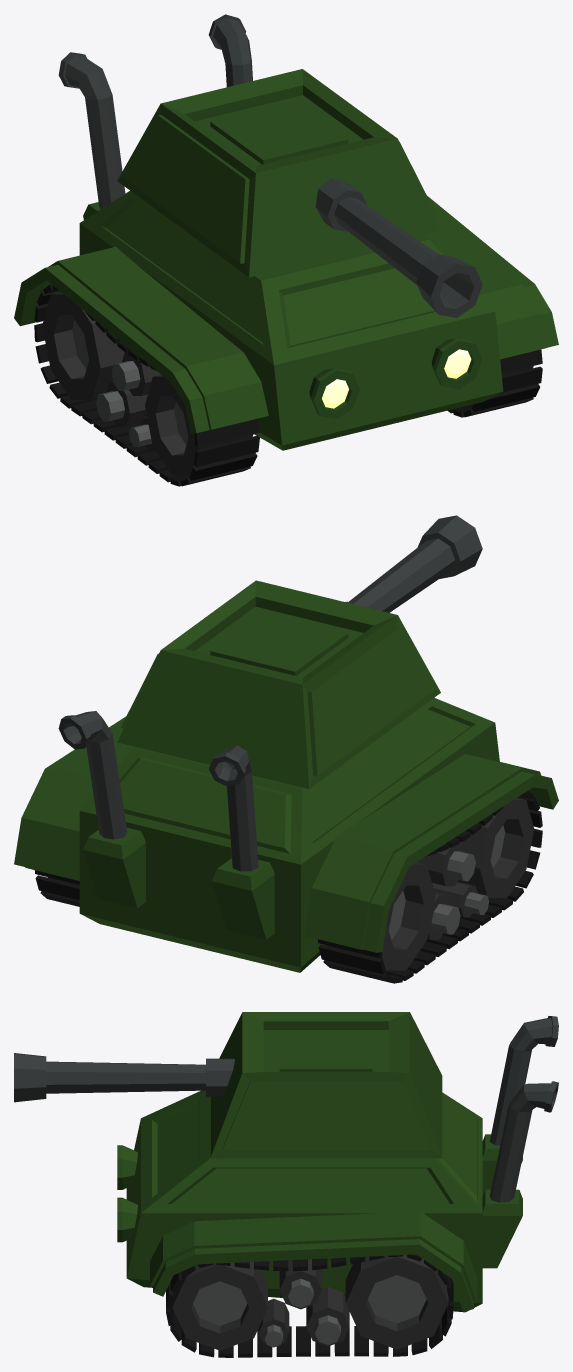
3 renders of one model, top to bottom at view 1: azimuth 30°, elevation 25°; view 2: azimuth 150°, elevation 25°; view 3: azimuth 270°, elevation 25°, orthographic. The views are drawn at different scales.
Visible parts, largest first — view 1: body, head, mudflaps, thread, cannon, exhausts, rear wheel, headlights, front wheel, mid rear wheel, mid top wheel; view 2: head, body, mudflaps, exhausts, thread, cannon, front wheel, rear wheel, mid top wheel, mid front wheel, mid rear wheel; view 3: body, head, mudflaps, exhausts, rear wheel, cannon, front wheel, thread, mid rear wheel, headlights, mid top wheel, mid front wheel.
Part boxes in pixels (box(x1,y1,x2,y2)): body: box(79, 190, 503, 450); head: box(117, 69, 440, 277); mudflaps: box(14, 196, 558, 433); thread: box(34, 284, 542, 486); cannon: box(315, 178, 482, 317); exhausts: box(58, 14, 252, 219); rear wheel: box(42, 292, 124, 399); headlights: box(309, 338, 482, 419); front wheel: box(145, 366, 533, 474); mid rear wheel: box(96, 381, 147, 426); mid top wheel: box(111, 352, 160, 395); head: box(117, 580, 440, 788); body: box(79, 698, 499, 972); mudflaps: box(14, 716, 558, 952); exhausts: box(58, 711, 274, 939); thread: box(34, 791, 542, 983); cannon: box(345, 515, 482, 612); front wheel: box(457, 798, 534, 898); rear wheel: box(47, 862, 435, 970); mid top wheel: box(416, 842, 475, 886); mid front wheel: box(432, 882, 489, 917); mid rear wheel: box(427, 892, 460, 939); body: box(126, 1090, 482, 1312); head: box(210, 1012, 442, 1158); mudflaps: box(150, 1211, 477, 1311); exhausts: box(482, 1016, 558, 1268); rear wheel: box(345, 1255, 448, 1349); cannon: box(14, 1053, 234, 1102); front wheel: box(172, 1261, 267, 1350); thread: box(166, 1254, 453, 1357); mid rear wheel: box(306, 1287, 349, 1346); headlights: box(117, 1145, 137, 1242); mid top wheel: box(279, 1259, 321, 1309); mid front wheel: box(258, 1298, 289, 1347).
Bounding box in the file's own units: 3.28 × 2.37 × 4.85.
